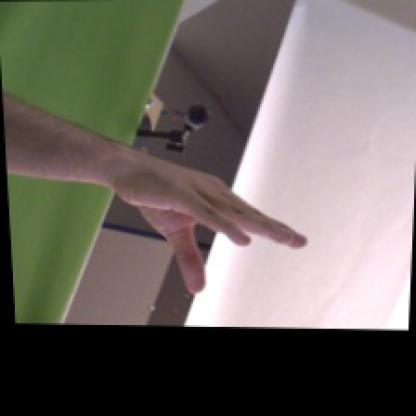Hand: (114, 145, 309, 293)
